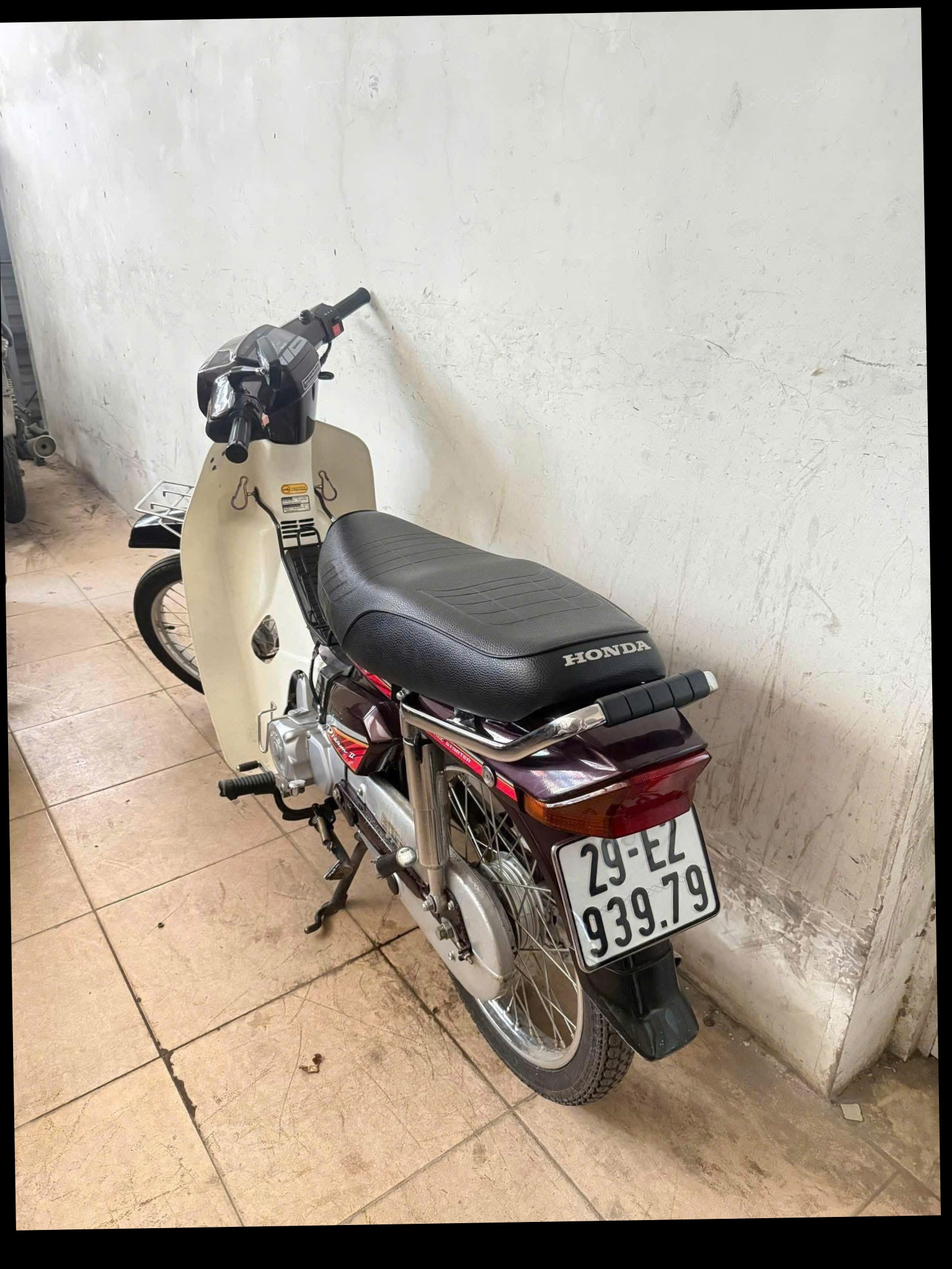Bien-so: (530, 827, 718, 1012)
